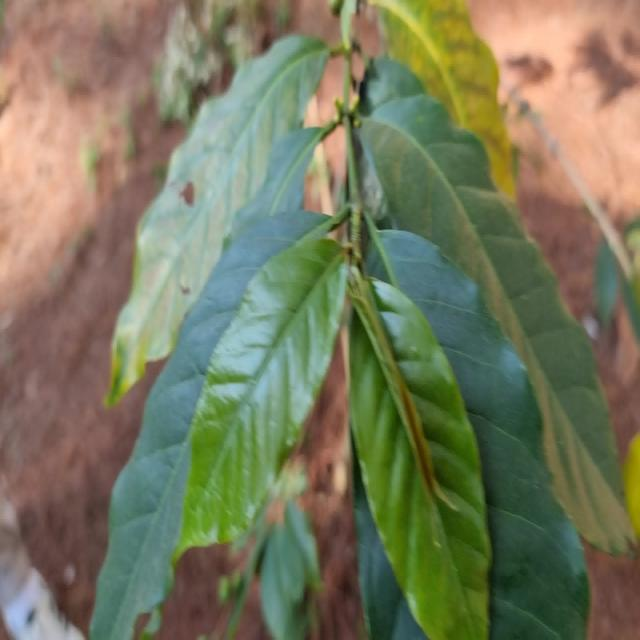leaves: (52, 108, 357, 640), (338, 71, 640, 572), (50, 5, 344, 415), (363, 202, 609, 640), (139, 215, 371, 584), (332, 271, 503, 640)
